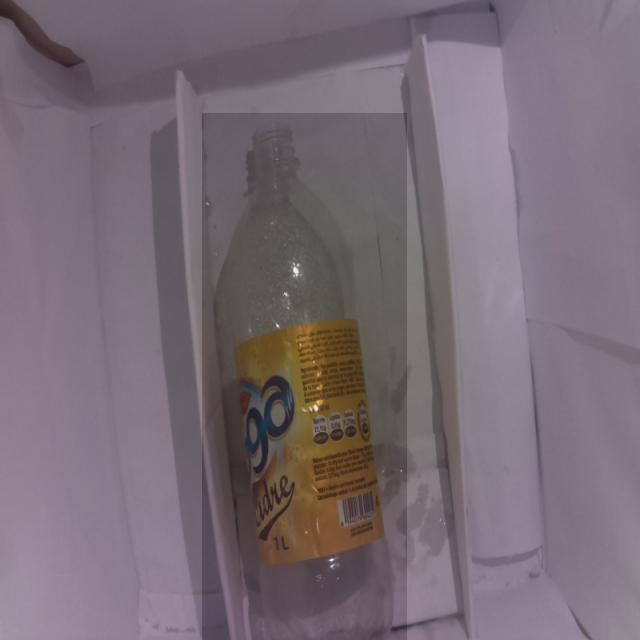BIODEGRADABLE: (202, 113, 407, 640)
